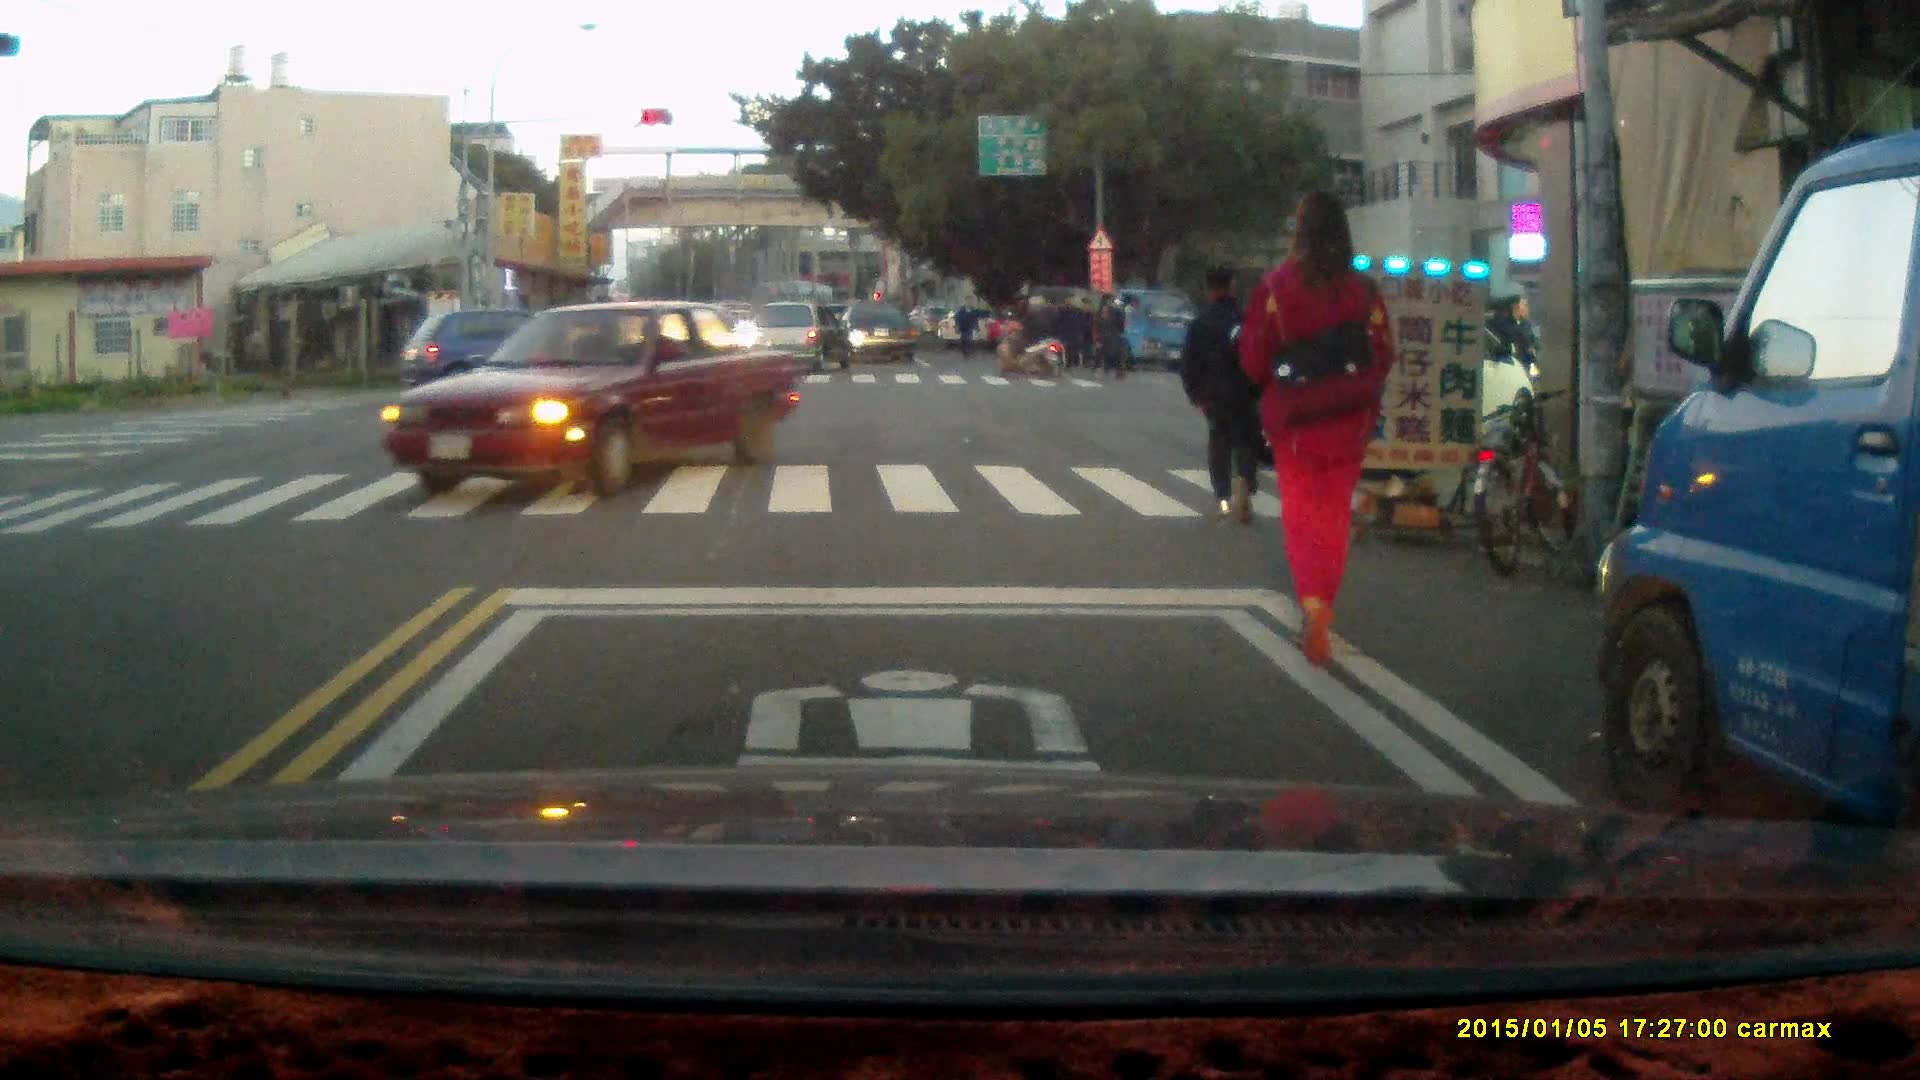pedestrian: (1241, 193, 1393, 673), (1176, 257, 1280, 525), (1489, 293, 1538, 418), (1051, 290, 1083, 375), (1090, 295, 1116, 369), (954, 292, 977, 363)
rider: (998, 293, 1057, 380)
vehicle: (1598, 132, 1920, 867), (380, 303, 810, 495), (1233, 296, 1533, 459), (1002, 284, 1203, 367), (830, 296, 924, 366)
